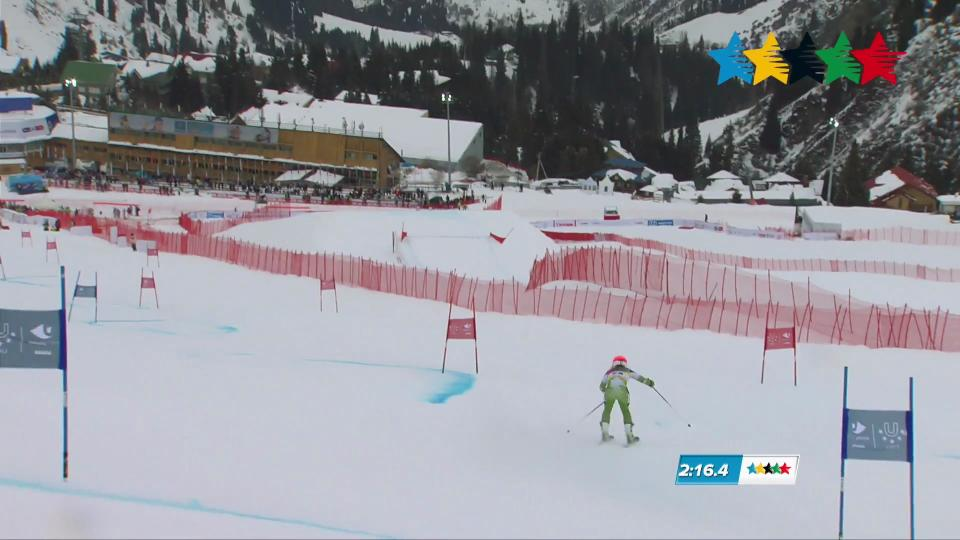gate: (45, 258, 88, 501), (880, 365, 938, 539), (832, 355, 874, 539)
